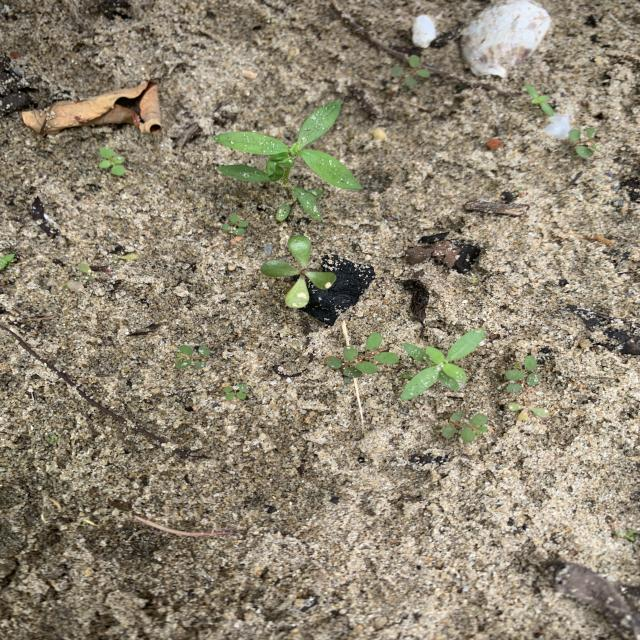weed: (213, 100, 361, 221), (402, 330, 483, 399), (261, 236, 335, 307), (325, 333, 397, 379), (437, 412, 488, 440), (505, 356, 540, 391), (391, 55, 429, 87), (567, 127, 599, 157), (526, 84, 553, 114), (174, 344, 209, 367), (508, 402, 547, 420), (99, 147, 124, 175), (222, 214, 247, 234), (222, 383, 247, 399), (276, 204, 290, 221)
